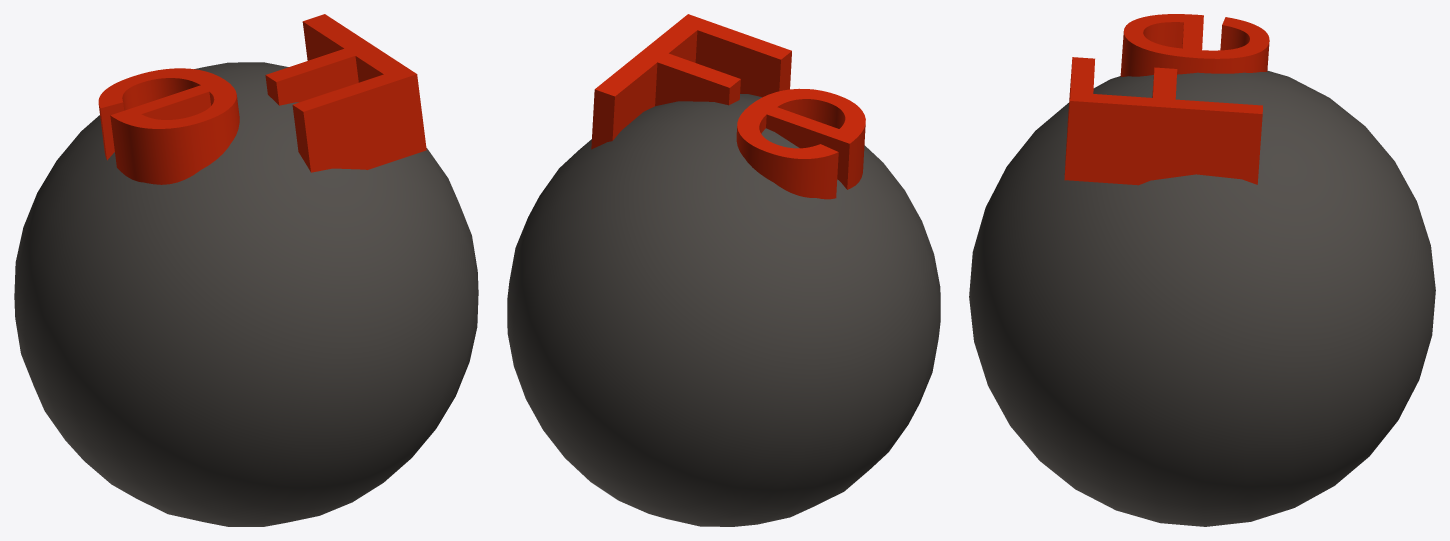
3 views of the same model, side by side, from view 1: azimuth 30°, elevation 25°; view 2: azimuth 150°, elevation 25°; view 3: azimuth 270°, elevation 25° (orthographic). The views are drawn at different scales.
Parts seen in each view (by area): view 1: Fe; view 2: Fe; view 3: Fe.
Boxes of the visible parts, x1,y1,x2,y2 form: Fe: (14, 14, 478, 526); Fe: (507, 14, 940, 526); Fe: (969, 14, 1435, 526).
Size of the model in its own units: 38.64 by 41.64 by 38.74.
